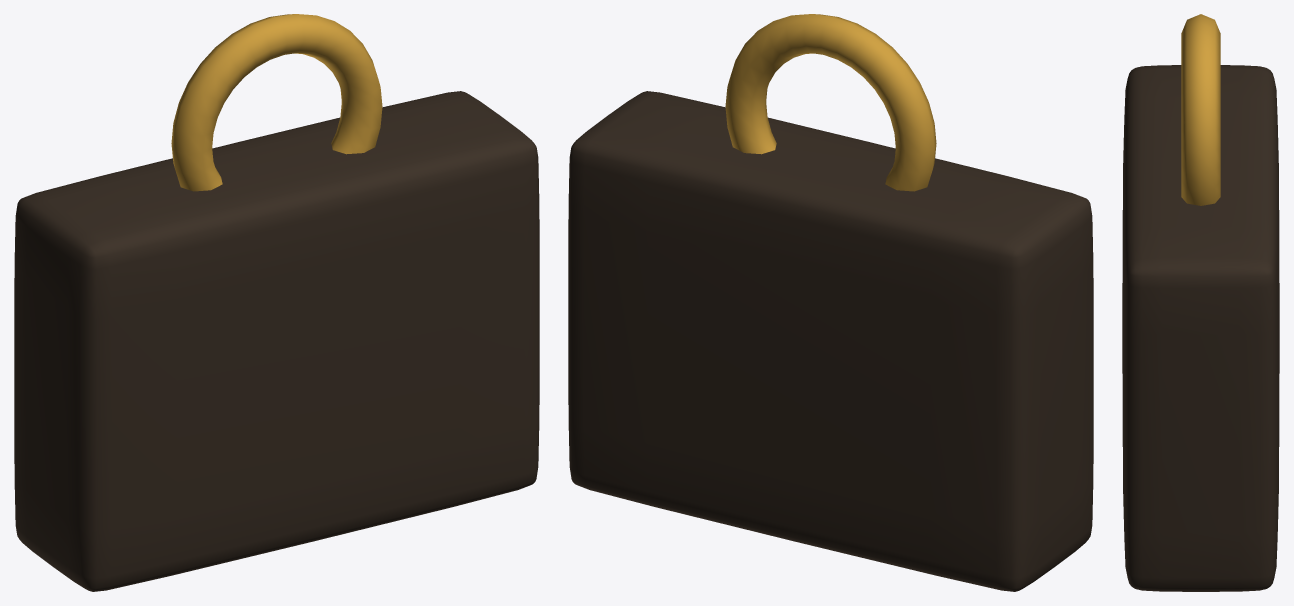
The model's file is bag_brief.glb.
The picture shows the model from 3 angles, left to right: view 1: azimuth 30°, elevation 25°; view 2: azimuth 150°, elevation 25°; view 3: azimuth 270°, elevation 25°; orthographic projection. The views are drawn at different scales.
Parts seen in each view (by area): view 1: case, handle; view 2: case, handle; view 3: case, handle.
Boxes of the visible parts, <box> form: case: <box>14,91,539,591</box>; handle: <box>171,14,382,191</box>; case: <box>568,91,1093,591</box>; handle: <box>725,14,936,191</box>; case: <box>1122,65,1279,591</box>; handle: <box>1181,14,1220,205</box>.
Bounding box in the file's own units: 0.3796 × 0.3948 × 0.1196.
